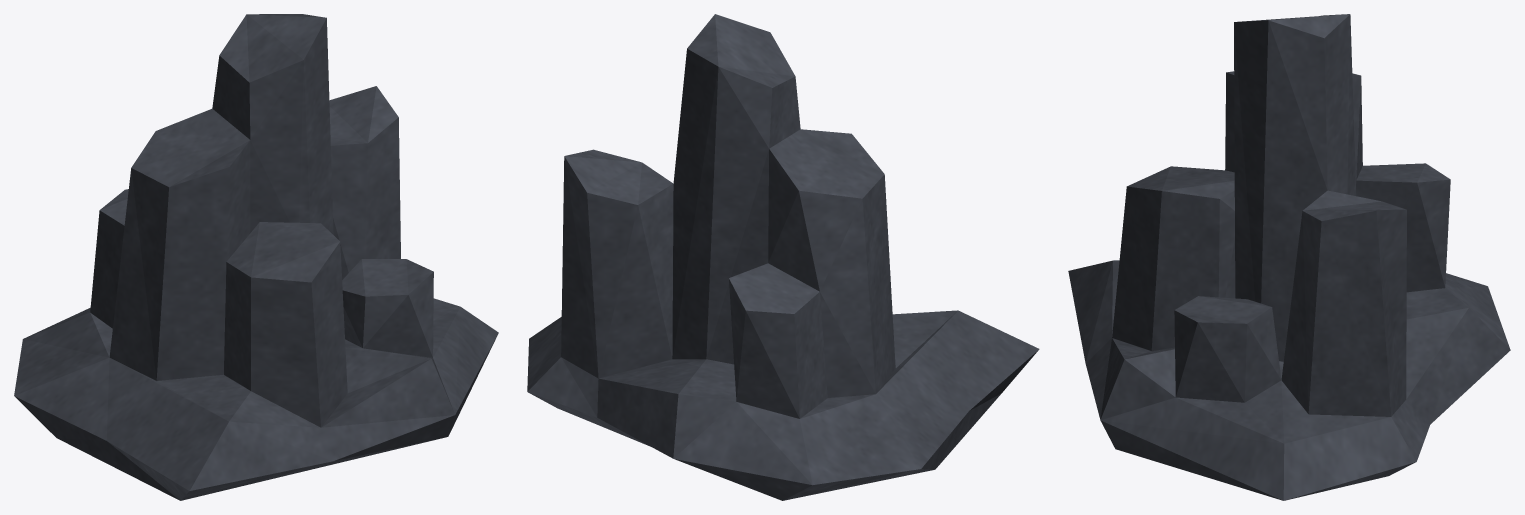
The model's file is volcanic_basalt_columns.glb.
The picture shows the model from 3 angles, left to right: view 1: azimuth 30°, elevation 25°; view 2: azimuth 150°, elevation 25°; view 3: azimuth 270°, elevation 25°; orthographic projection. The views are drawn at different scales.
Parts seen in each view (by area): view 1: volcanic_basalt_columns; view 2: volcanic_basalt_columns; view 3: volcanic_basalt_columns.
Part boxes in pixels (x1,y1,x2,y2): volcanic_basalt_columns: [14, 14, 498, 500]; volcanic_basalt_columns: [527, 14, 1039, 500]; volcanic_basalt_columns: [1068, 14, 1510, 500].
Bounding box in the file's own units: 2.33 × 1.92 × 1.91.
1 material, 1 textured.
